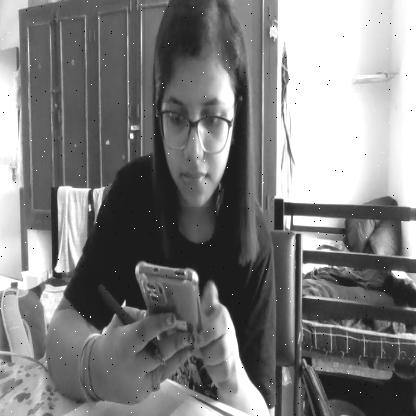Normal: (145, 0, 252, 207)
